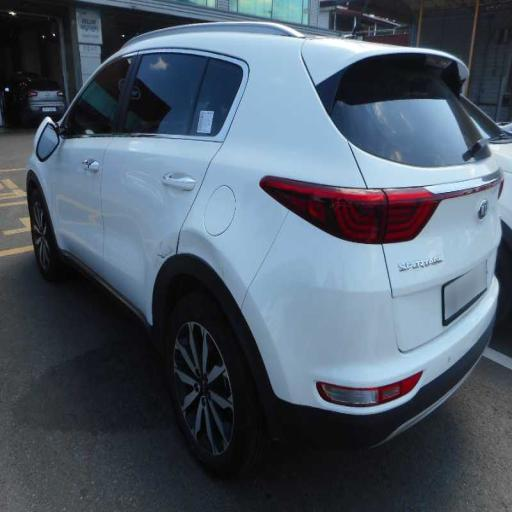scratch: (38, 131, 224, 296)
